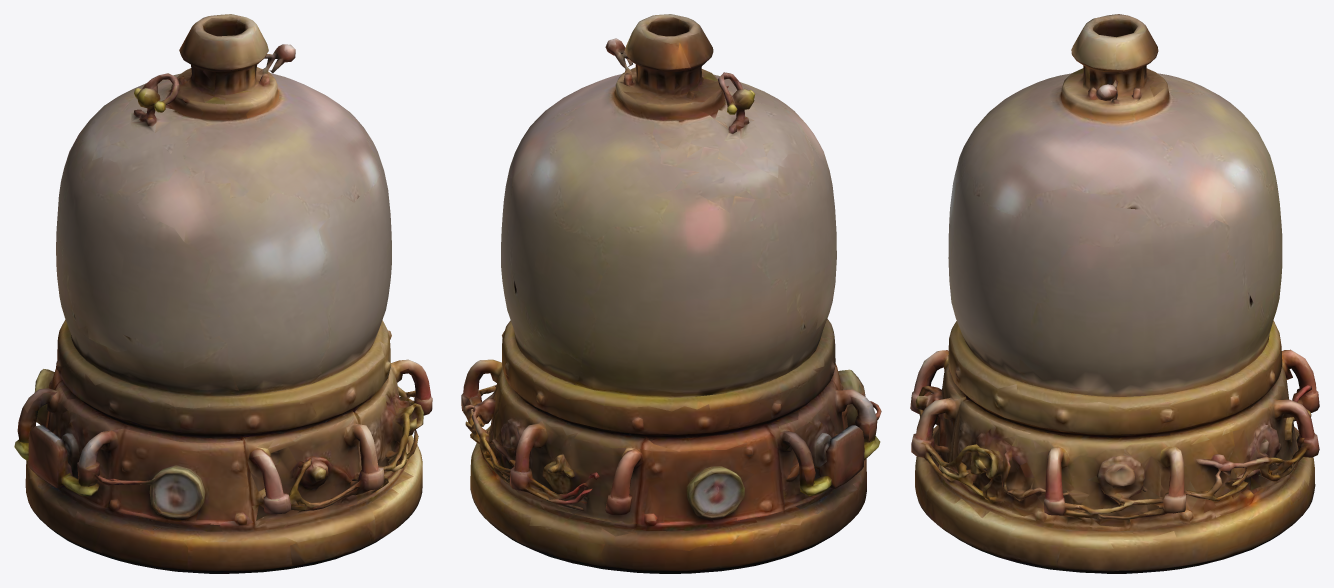
File: power.glb
The picture shows the model from 3 angles, left to right: view 1: azimuth 30°, elevation 25°; view 2: azimuth 150°, elevation 25°; view 3: azimuth 270°, elevation 25°; orthographic projection.
Parts seen in each view (by area): view 1: low; view 2: low; view 3: low.
Part boxes in pixels (bbox=[...]): low: bbox=[14, 14, 432, 573]; low: bbox=[461, 14, 881, 573]; low: bbox=[910, 14, 1319, 573].
Bounding box in the file's own units: 1.59 × 2 × 1.57.
Materials: 1 (1 with a texture image).
